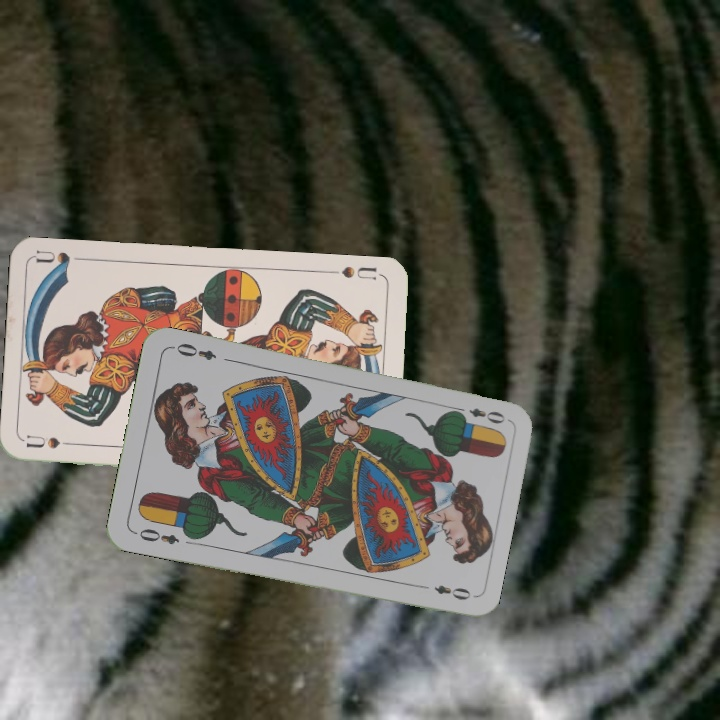EO: (450, 402, 508, 426), (130, 524, 182, 548)
SU: (23, 431, 83, 451), (338, 262, 379, 283)
